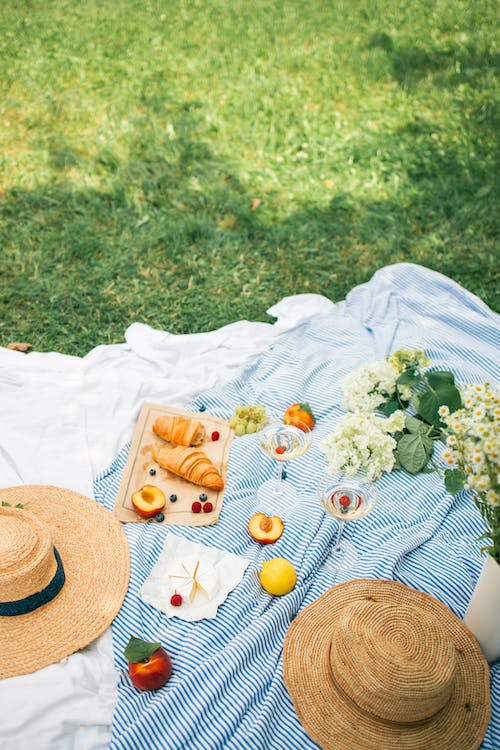alcohol: (316, 466, 380, 574), (253, 415, 314, 514)
